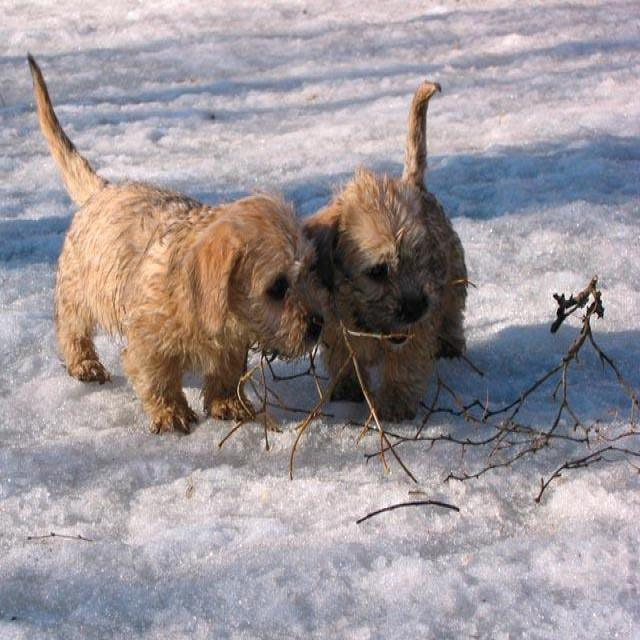dandie_dinmont: (10, 52, 327, 436), (300, 81, 467, 420)
